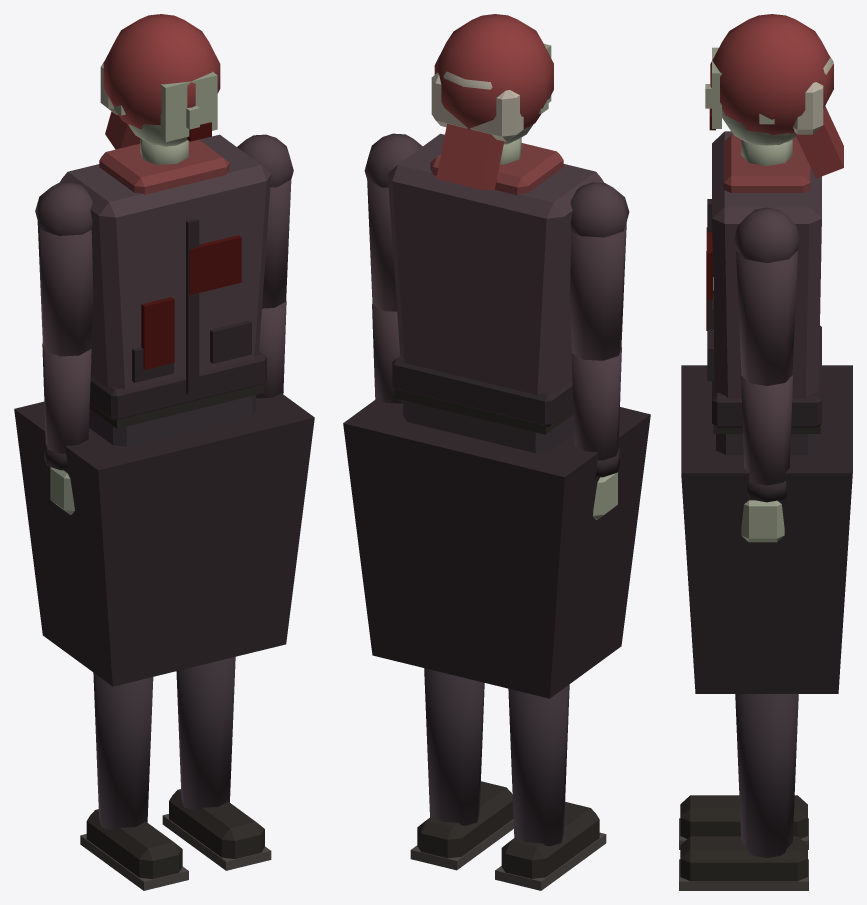
File: zombie_g.glb
3 views of the same model, side by side, from view 1: azimuth 30°, elevation 25°; view 2: azimuth 150°, elevation 25°; view 3: azimuth 270°, elevation 25° (orthographic). The views are drawn at different scales.
Visible parts, largest first — view 1: Hips, Torso, Head, ShinR, ShinL, ArmR, ForearmR, ArmL, ForearmL; view 2: Hips, Torso, Head, ShinR, ShinL, ArmR, ForearmR, ArmL, ForearmL; view 3: Hips, Torso, Head, ShinL, ArmL, ForearmL, ShinR.
Boxes of the visible parts, x1=… form: Hips: x1=14, y1=384, x2=314, y2=686; Torso: x1=59, y1=134, x2=271, y2=421; Head: x1=100, y1=14, x2=220, y2=164; ShinR: x1=80, y1=672, x2=188, y2=890; ShinL: x1=162, y1=657, x2=271, y2=870; ArmR: x1=35, y1=182, x2=93, y2=356; ForearmR: x1=42, y1=343, x2=91, y2=514; ArmL: x1=237, y1=134, x2=293, y2=308; ForearmL: x1=256, y1=301, x2=286, y2=398; Hips: x1=343, y1=389, x2=650, y2=698; Torso: x1=387, y1=133, x2=604, y2=427; Head: x1=431, y1=14, x2=553, y2=189; ShinR: x1=495, y1=684, x2=606, y2=890; ShinL: x1=410, y1=668, x2=513, y2=870; ArmR: x1=569, y1=182, x2=629, y2=360; ForearmR: x1=571, y1=347, x2=621, y2=519; ArmL: x1=364, y1=133, x2=422, y2=311; ForearmL: x1=372, y1=304, x2=403, y2=403; Hips: x1=681, y1=365, x2=852, y2=693; Torso: x1=706, y1=131, x2=821, y2=428; Head: x1=705, y1=14, x2=843, y2=178; ShinL: x1=679, y1=694, x2=808, y2=890; ArmL: x1=733, y1=207, x2=800, y2=385; ForearmL: x1=741, y1=375, x2=792, y2=542; ShinR: x1=679, y1=795, x2=808, y2=849.
Size of the model in its own units: 0.582 by 1.81 by 0.34.
